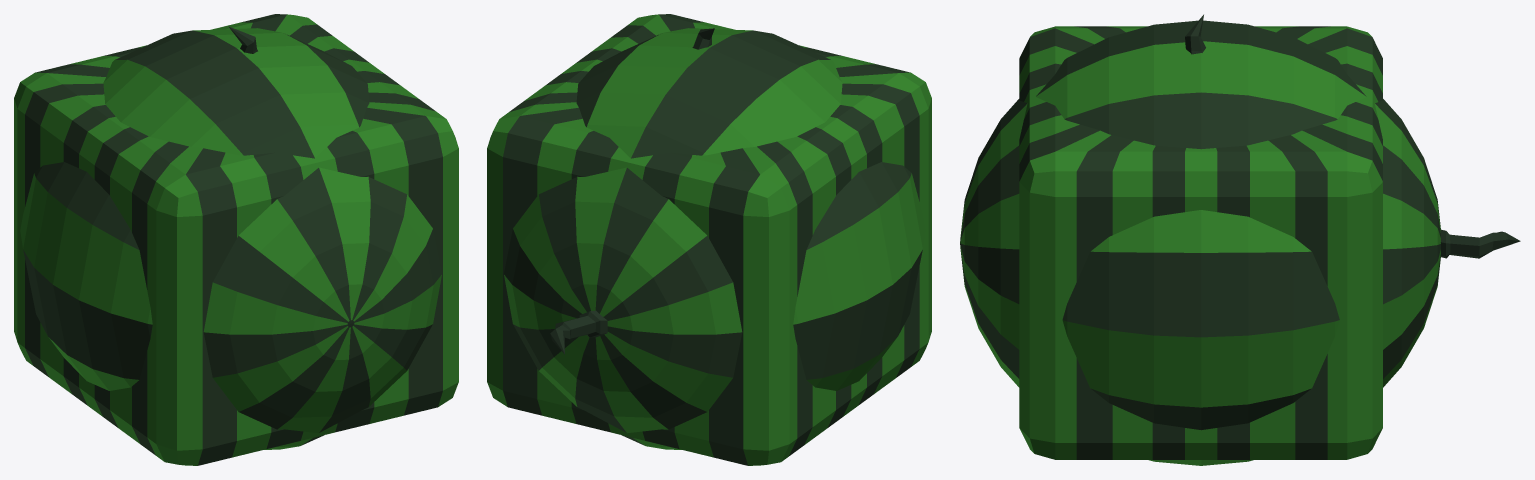
The model's file is Watermelon.fbx.
The picture shows the model from 3 angles, left to right: view 1: azimuth 30°, elevation 25°; view 2: azimuth 150°, elevation 25°; view 3: azimuth 270°, elevation 25°; orthographic projection. The views are drawn at different scales.
Parts seen in each view (by area): view 1: Watermelon_C, Watermelon_S, Watermelon_S_cell.006, Watermelon_S_cell.009, Watermelon_S_cell.008, Watermelon_S_cell.005, Watermelon_S_cell, Watermelon_S_cell.004; view 2: Watermelon_C, Watermelon_S, Watermelon_S_cell.001, Watermelon_S_cell.003, Watermelon_S_cell.007, Watermelon_S_cell.004, Watermelon_S_cell.008, Watermelon_S_cell.009, Watermelon_S_cell.010; view 3: Watermelon_C, Watermelon_S, Watermelon_S_cell.002, Watermelon_S_cell.004, Watermelon_S_cell.009, Watermelon_S_cell.001, Watermelon_S_cell.007, Watermelon_S_cell.005, Watermelon_S_cell, Watermelon_S_cell.006.
Part boxes in pixels (x1,y1,x2,y2): Watermelon_C: (14,14,458,465); Watermelon_S: (20,28,441,431); Watermelon_S_cell.006: (110,199,372,394); Watermelon_S_cell.009: (105,67,412,211); Watermelon_S_cell.008: (23,162,140,390); Watermelon_S_cell.005: (231,203,429,393); Watermelon_S_cell: (226,261,439,449); Watermelon_S_cell.004: (104,35,369,106); Watermelon_C: (487,14,931,465); Watermelon_S: (504,28,925,449); Watermelon_S_cell.001: (506,120,758,302); Watermelon_S_cell.003: (636,217,811,389); Watermelon_S_cell.007: (511,274,663,424); Watermelon_S_cell.004: (577,28,794,145); Watermelon_S_cell.008: (668,168,913,449); Watermelon_S_cell.009: (752,30,885,165); Watermelon_S_cell.010: (551,310,607,352); Watermelon_C: (1019,14,1382,459); Watermelon_S: (960,20,1520,464); Watermelon_S_cell.002: (1062,211,1339,465); Watermelon_S_cell.004: (1101,21,1317,149); Watermelon_S_cell.009: (996,38,1142,205); Watermelon_S_cell.001: (1305,43,1433,338); Watermelon_S_cell.007: (1383,190,1440,379); Watermelon_S_cell.005: (960,249,1019,290); Watermelon_S_cell: (966,288,1182,464); Watermelon_S_cell.006: (966,125,998,195).
Bounding box in the file's own units: 1.23 × 1.3 × 1.54.
